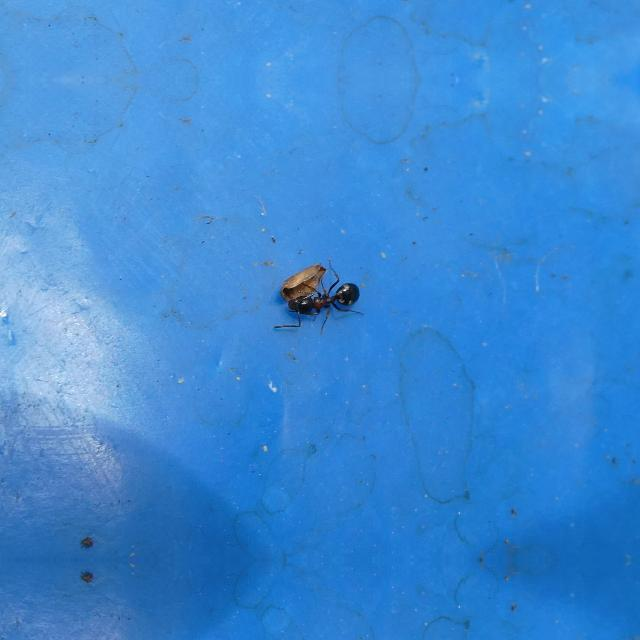Dolichoderus: (276, 270, 372, 324)
